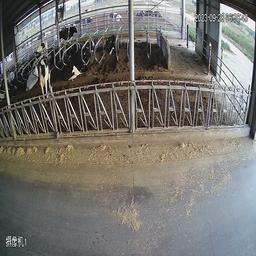cow: (64, 43, 94, 85), (34, 51, 57, 102), (19, 61, 39, 95), (56, 24, 82, 50), (101, 27, 122, 57), (34, 39, 50, 56)
